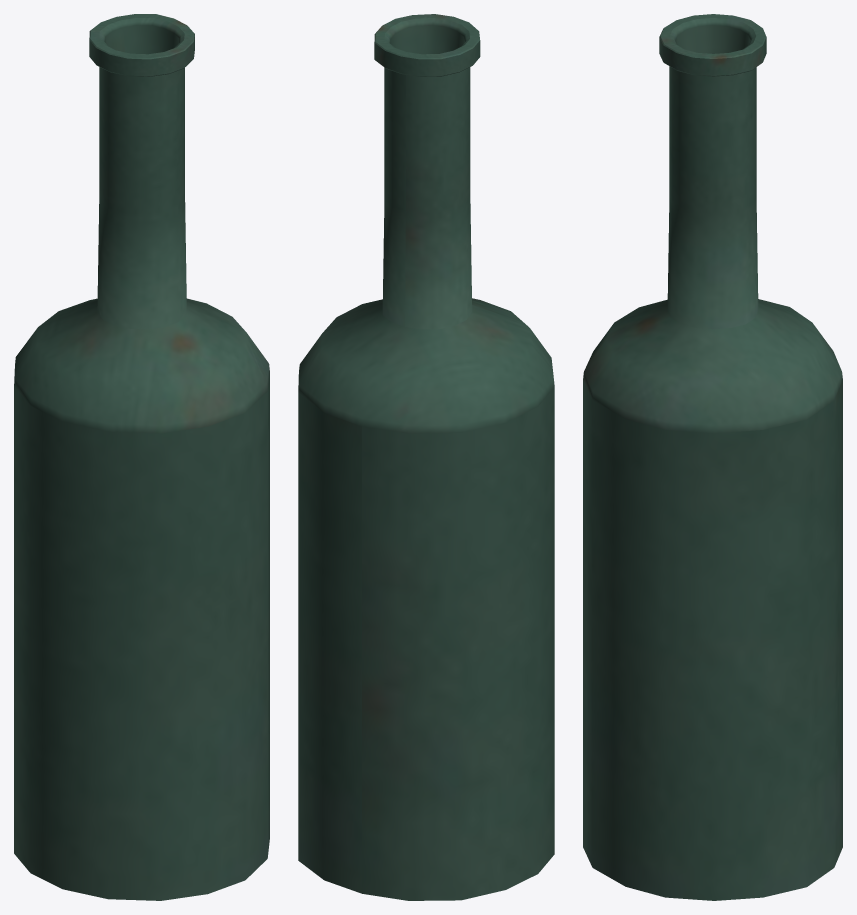
File: Props_Bouteille_1.fbx
The picture shows the model from 3 angles, left to right: view 1: azimuth 30°, elevation 25°; view 2: azimuth 150°, elevation 25°; view 3: azimuth 270°, elevation 25°; orthographic projection.
Parts seen in each view (by area): view 1: Props_bouteille1; view 2: Props_bouteille1; view 3: Props_bouteille1.
Part boxes in pixels (<box>): Props_bouteille1: <box>14,14,269,900</box>; Props_bouteille1: <box>298,14,554,900</box>; Props_bouteille1: <box>583,14,842,900</box>.
Size of the model in its own units: 30.08 by 105 by 30.51.
